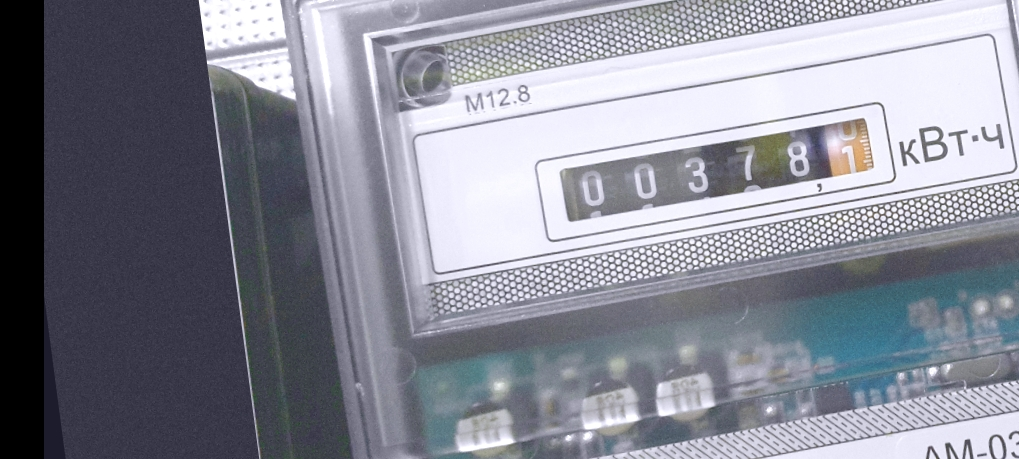0: (578, 164, 611, 208), (631, 159, 661, 200), (836, 117, 860, 142)
1: (838, 141, 862, 175)
3: (682, 152, 713, 196)
7: (733, 141, 762, 182)
8: (784, 136, 813, 179)
screen: (536, 96, 897, 234)
